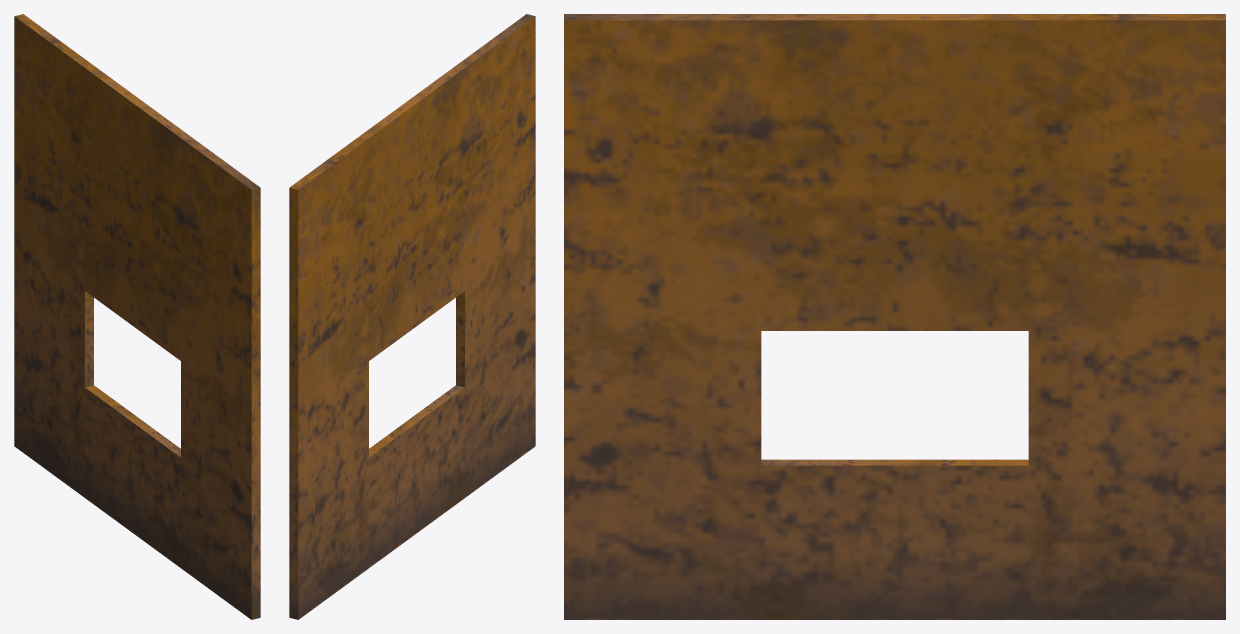
Rendered from WindowWallYellow_SM.fbx.
3 views of the same model, side by side, from view 1: azimuth 30°, elevation 25°; view 2: azimuth 150°, elevation 25°; view 3: azimuth 270°, elevation 25° (orthographic). The views are drawn at different scales.
Visible parts, largest first — view 1: WindowWall; view 2: WindowWall; view 3: WindowWall.
Boxes of the visible parts, x1,y1,x2,y2 form: WindowWall: [14, 14, 260, 619]; WindowWall: [289, 14, 535, 619]; WindowWall: [564, 14, 1225, 619].
Bounding box in the file's own units: 10 × 450 × 450.
1 material, 1 textured.
